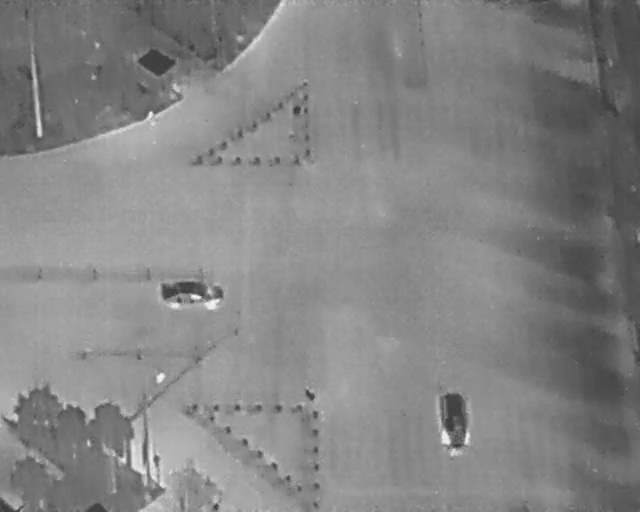Car: (433, 390, 471, 459), (156, 279, 225, 312)
